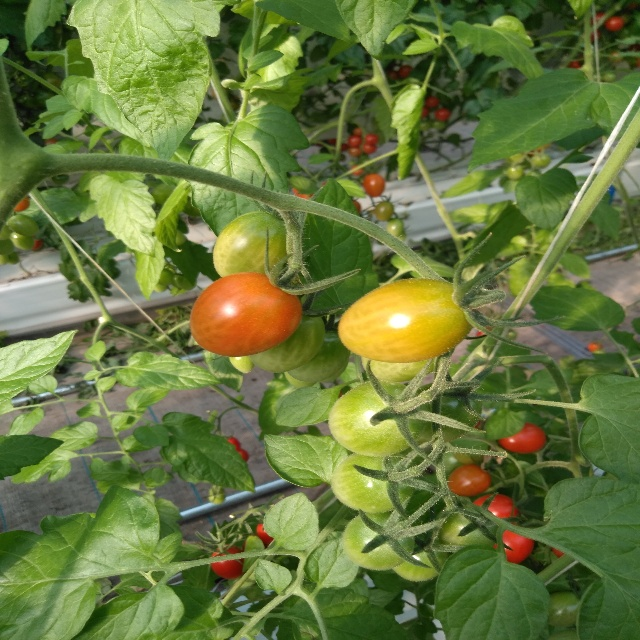l_fully_ripened: (492, 522, 532, 564), (498, 422, 546, 454), (470, 494, 519, 523), (211, 545, 243, 579)
l_green: (327, 380, 430, 456), (213, 210, 296, 279), (245, 305, 326, 373), (331, 453, 415, 513), (341, 511, 416, 571), (414, 382, 482, 444), (429, 504, 501, 558), (287, 327, 350, 382), (361, 348, 454, 382), (391, 529, 448, 583), (547, 590, 580, 626), (7, 213, 38, 236)
l_half_ripened: (337, 278, 474, 363), (190, 272, 303, 356), (446, 464, 490, 496)
